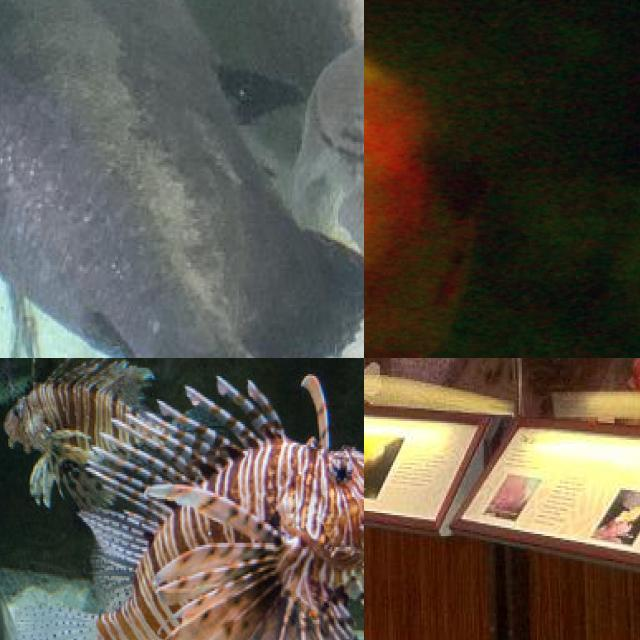fish: (0, 0, 364, 358), (364, 0, 602, 358)
